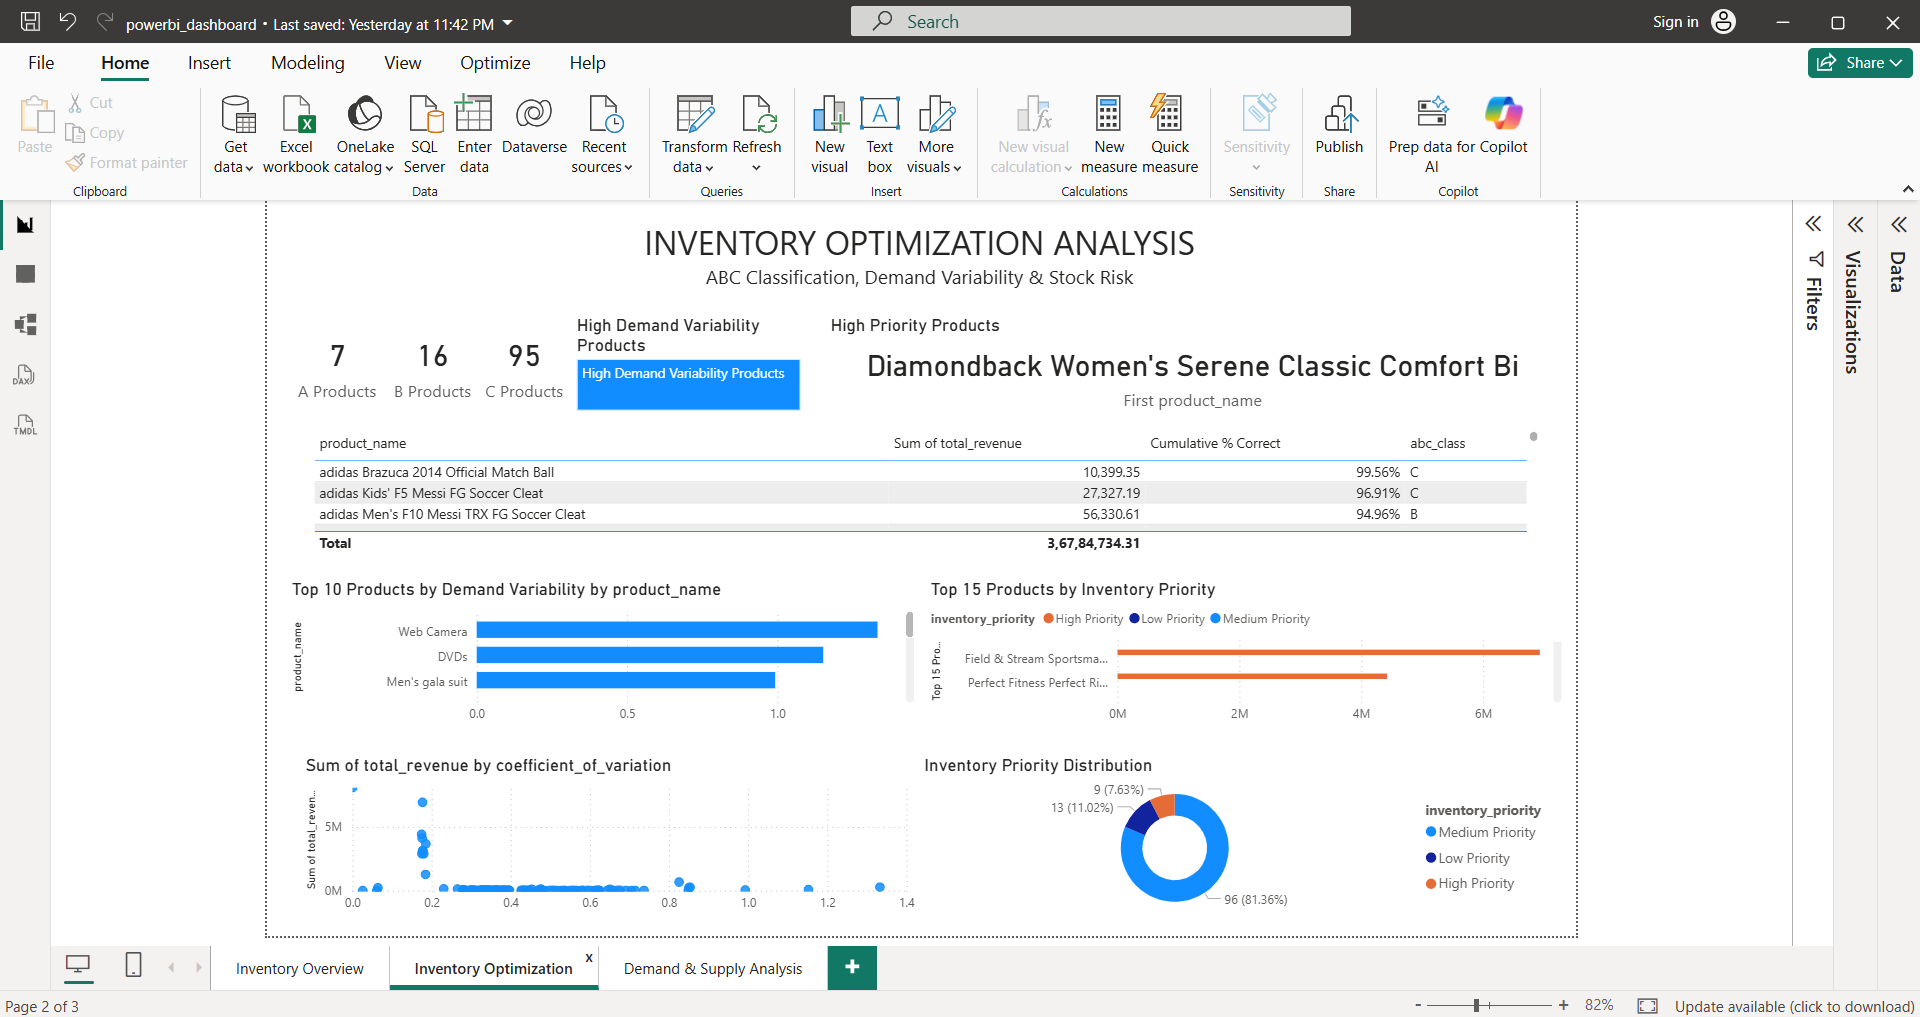

The page's visual inventory and layout, read from the dashboard file:
{"tool":"powerbi","page":{"name":"Inventory Optimization","canvas":[1280,720],"ordinal":1},"visuals":[{"type":"textbox","box":[10,14.3,1257.1,98.6],"z":0},{"type":"card","fields":{"Values":["abc_analysis.A Products"]},"box":[20,112.9,98.6,98.6],"z":2000},{"type":"card","fields":{"Values":["abc_analysis.B Products"]},"box":[118.6,112.9,87.1,98.6],"z":3000},{"type":"card","fields":{"Values":["abc_analysis.C Products"]},"box":[205.7,112.9,92.9,98.6],"z":4000},{"type":"clusteredBarChart","fields":{"Category":["demand_variability.product_name"],"Y":["Sum(demand_variability.coefficient_of_variation)"]},"box":[20,370,618.6,150],"z":5000},{"type":"treemap","fields":{"Values":["abc_analysis.High Variability Products"]},"box":[298.6,112.9,228.6,98.6],"z":6000},{"type":"scatterChart","fields":{"Y":["Sum(inventory_priority.total_revenue)"],"X":["inventory_priority.coefficient_of_variation"]},"box":[32.9,542.9,605.7,162.9],"z":7000},{"type":"clusteredBarChart","title":"Top 15 Products by Inventory Priority","fields":{"Category":["inventory_priority.product_name"],"Y":["Sum(inventory_priority.total_revenue)"],"Series":["inventory_priority.inventory_priority"]},"box":[644.3,370,627.1,150],"z":8000},{"type":"card","title":"High Priority Products","fields":{"Values":["Min(inventory_priority.product_name)"]},"box":[547.1,112.9,718.6,98.6],"z":9000},{"type":"donutChart","title":"Inventory Priority Distribution","fields":{"Category":["inventory_priority.inventory_priority"],"Y":["CountNonNull(inventory_priority.product_name)"]},"box":[638.6,542.9,625.7,162.9],"z":10000},{"type":"tableEx","fields":{"Values":["abc_analysis.product_name","Sum(abc_analysis.total_revenue)","abc_analysis.Cumulative % Correct","abc_analysis.abc_class"]},"box":[40,221.4,1208.6,128.6],"z":10001}]}

Visuals, with their boxes on the page's 1280x720 design canvas (x1, y1, x2, y2). These are canvas units, not pixel positions in the 1920x1017 screenshot, which may show the page scaled, cropped or inside an application window:
textbox: locate(10, 14, 1267, 113)
card - abc_analysis.A Products: locate(20, 113, 119, 212)
card - abc_analysis.B Products: locate(119, 113, 206, 212)
card - abc_analysis.C Products: locate(206, 113, 299, 212)
clusteredBarChart - demand_variability.product_name x Sum(demand_variability.coefficient_of_variation): locate(20, 370, 639, 520)
treemap - abc_analysis.High Variability Products: locate(299, 113, 527, 212)
scatterChart - Sum(inventory_priority.total_revenue) x inventory_priority.coefficient_of_variation: locate(33, 543, 639, 706)
"Top 15 Products by Inventory Priority" clusteredBarChart: locate(644, 370, 1271, 520)
"High Priority Products" card: locate(547, 113, 1266, 212)
"Inventory Priority Distribution" donutChart: locate(639, 543, 1264, 706)
tableEx - abc_analysis.product_name x Sum(abc_analysis.total_revenue): locate(40, 221, 1249, 350)
